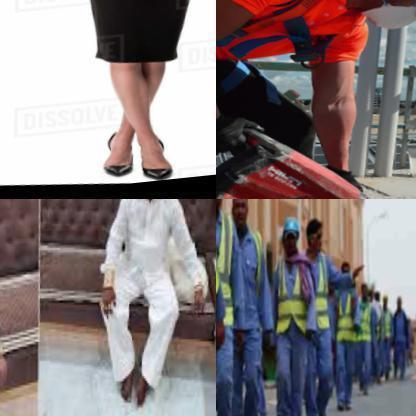vest: (216, 0, 362, 84), (224, 228, 268, 331), (267, 255, 314, 344), (216, 215, 241, 339), (305, 252, 334, 335), (329, 293, 360, 353), (353, 306, 373, 351)
